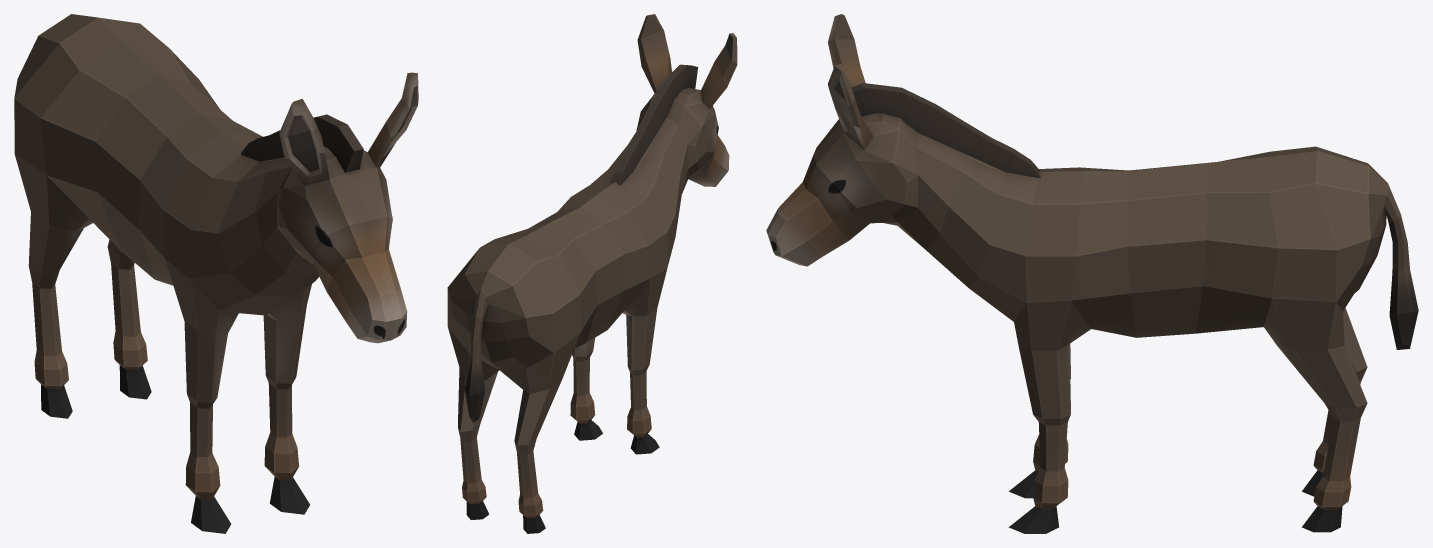
File: Donkey.obj
3 renders of one model, left to right at view 1: azimuth 30°, elevation 25°; view 2: azimuth 150°, elevation 25°; view 3: azimuth 270°, elevation 25°, orthographic. The views are drawn at different scales.
Parts seen in each view (by area): view 1: Donkey_mesh; view 2: Donkey_mesh; view 3: Donkey_mesh.
Part boxes in pixels (<box>): Donkey_mesh: <box>14,14,418,533</box>; Donkey_mesh: <box>447,14,737,533</box>; Donkey_mesh: <box>766,14,1418,533</box>.
Size of the model in its own units: 3.58 by 10.87 by 13.69.
1 material, 1 textured.
